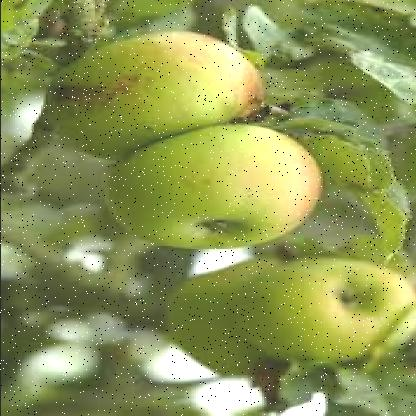apple: (111, 135, 320, 255), (249, 257, 411, 364)
damaged_apple: (58, 34, 270, 158)
